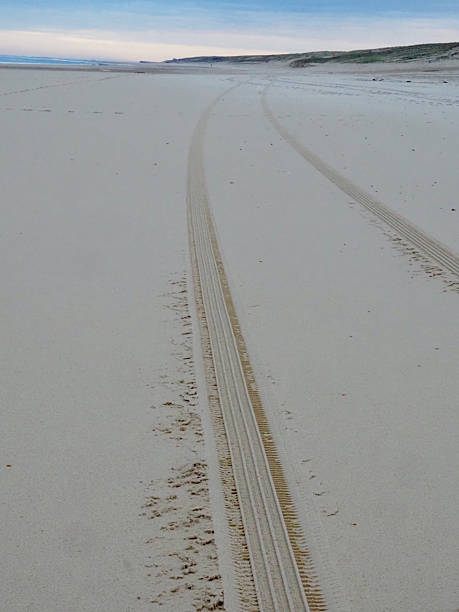vehicle_track: (187, 85, 325, 611), (261, 83, 458, 275)
